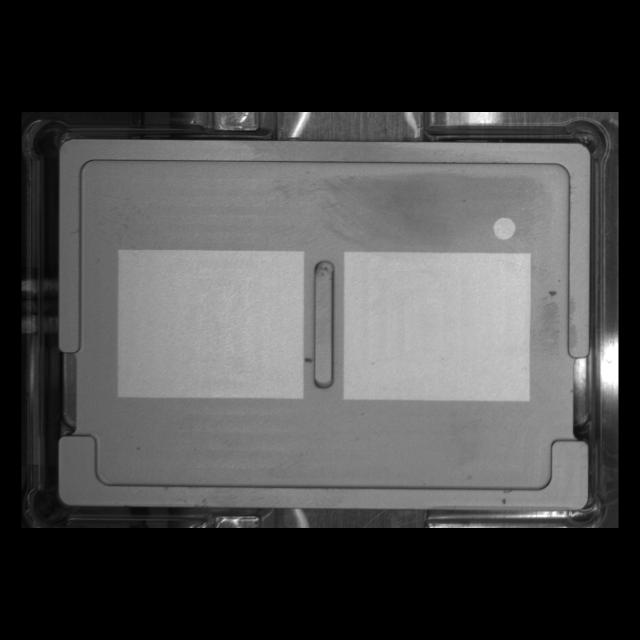door: (49, 420, 599, 520)
point: (489, 213, 520, 245)
